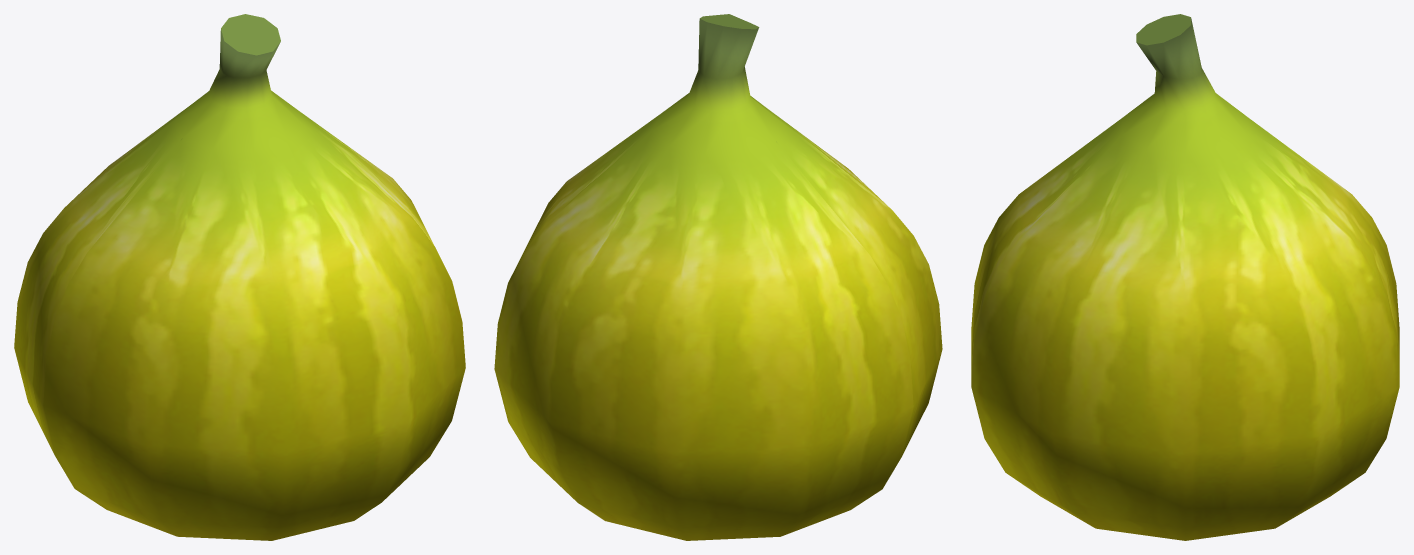
File: Fig_Yellow.fbx
3 renders of one model, left to right at view 1: azimuth 30°, elevation 25°; view 2: azimuth 150°, elevation 25°; view 3: azimuth 270°, elevation 25°, orthographic.
Parts seen in each view (by area): view 1: Fig_Yellow; view 2: Fig_Yellow; view 3: Fig_Yellow.
Part boxes in pixels (x1,y1,x2,y2): Fig_Yellow: (14, 14, 465, 540); Fig_Yellow: (494, 14, 942, 540); Fig_Yellow: (971, 14, 1399, 540).
Size of the model in its own units: 26.02 by 31.38 by 24.75.
